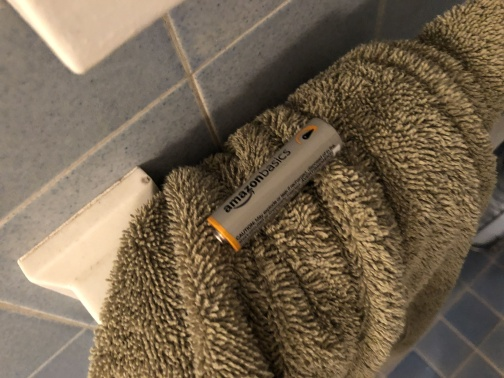battery: (202, 115, 347, 253)
